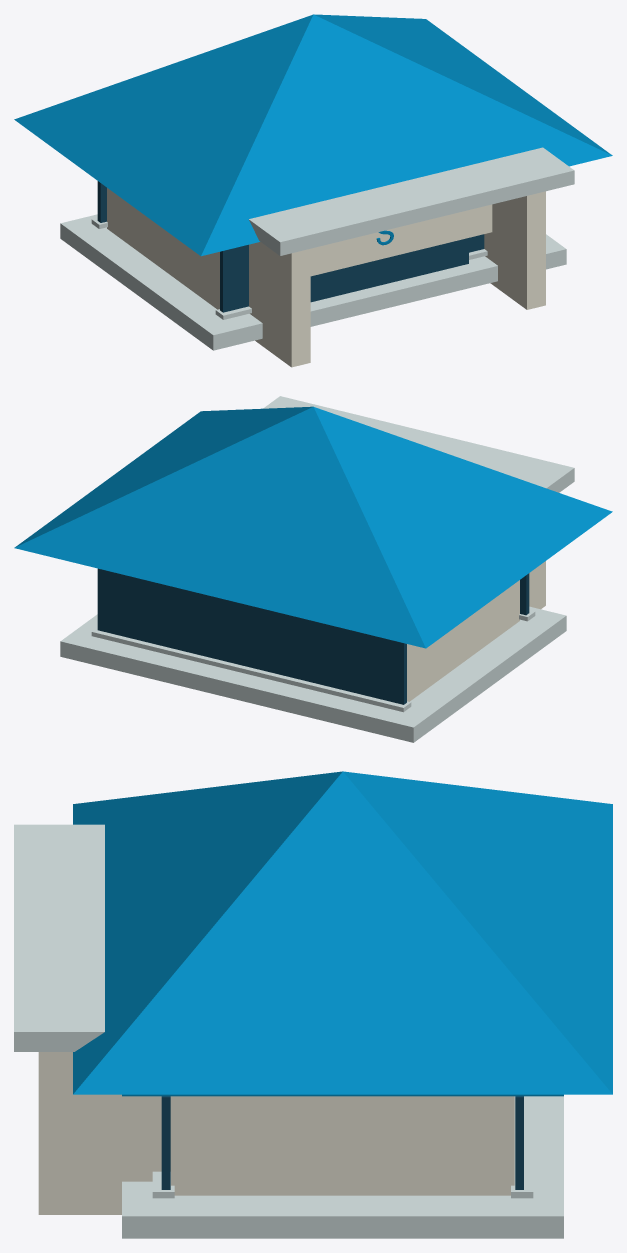
Rendered from rumah-imam.glb.
3 views of the same model, one above another, from view 1: azimuth 30°, elevation 25°; view 2: azimuth 150°, elevation 25°; view 3: azimuth 270°, elevation 25° (orthographic). The views are drawn at different scales.
Visible parts, largest first — view 1: Rumah_Imam_blue, Rumah_Imam_trim, Rumah_Imam_ivory, Rumah_Imam_glass; view 2: Rumah_Imam_blue, Rumah_Imam_trim, Rumah_Imam_glass, Rumah_Imam_ivory; view 3: Rumah_Imam_blue, Rumah_Imam_ivory, Rumah_Imam_trim, Rumah_Imam_glass.
Boxes of the visible parts, <box> form: Rumah_Imam_blue: <box>14,14,612,256</box>; Rumah_Imam_trim: <box>60,147,574,350</box>; Rumah_Imam_ivory: <box>107,188,545,367</box>; Rumah_Imam_glass: <box>97,181,484,312</box>; Rumah_Imam_blue: <box>14,406,612,648</box>; Rumah_Imam_trim: <box>60,396,574,742</box>; Rumah_Imam_glass: <box>97,568,529,704</box>; Rumah_Imam_ivory: <box>407,561,545,701</box>; Rumah_Imam_blue: <box>73,771,612,1096</box>; Rumah_Imam_ivory: <box>38,1052,514,1214</box>; Rumah_Imam_trim: <box>14,824,563,1238</box>; Rumah_Imam_glass: <box>161,1096,523,1189</box>.
Bounding box in the file's own units: 14 × 7.95 × 12.2.
